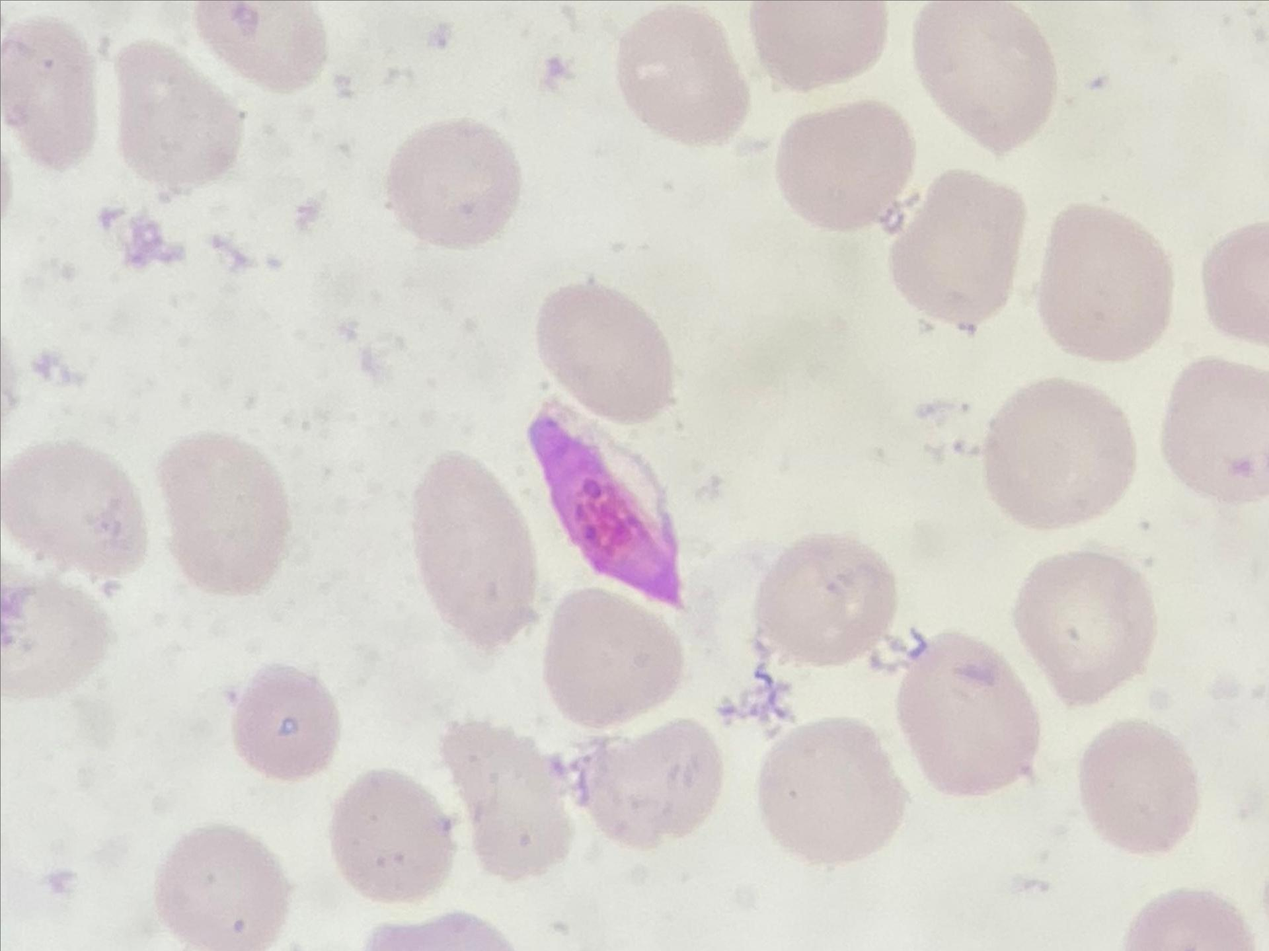Infected: (527, 402, 685, 611)
Uninfected: (415, 455, 540, 652), (1008, 551, 1160, 707), (897, 633, 1036, 800), (917, 0, 1061, 159), (438, 719, 577, 883), (990, 379, 1140, 528), (1036, 204, 1178, 357), (760, 719, 906, 867), (155, 431, 289, 592), (889, 171, 1026, 325), (0, 440, 146, 579), (580, 716, 729, 848), (755, 534, 901, 666), (114, 38, 241, 188), (537, 281, 673, 420), (777, 98, 917, 229), (329, 765, 458, 904), (620, 12, 750, 145), (155, 825, 290, 951), (1079, 719, 1202, 853), (390, 125, 520, 245), (0, 15, 101, 169), (1163, 359, 1265, 509), (0, 577, 121, 697), (752, 0, 890, 94), (235, 666, 344, 785), (197, 0, 326, 91)
